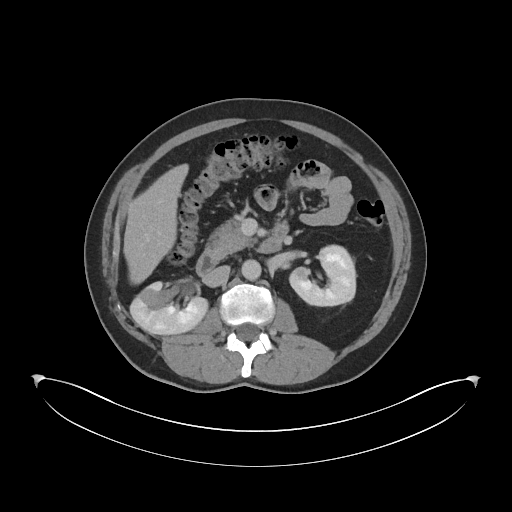Lesion: (140, 287, 181, 310)
